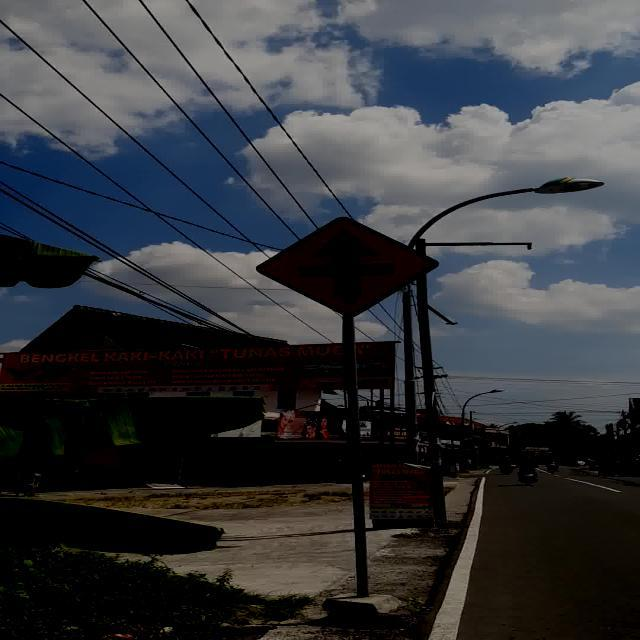Persimpangan 3 Prioritas: (255, 216, 439, 317)
